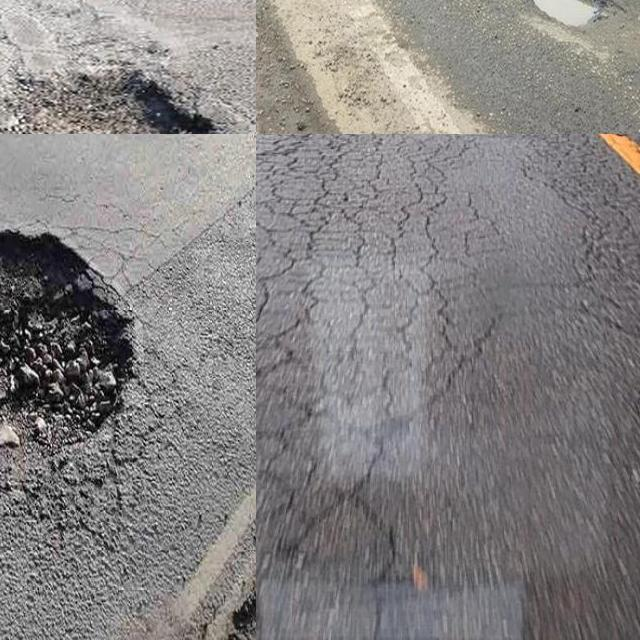Lubang: (0, 231, 132, 466), (5, 71, 197, 134), (520, 0, 614, 22)
Retak Buaya: (256, 134, 500, 640)
